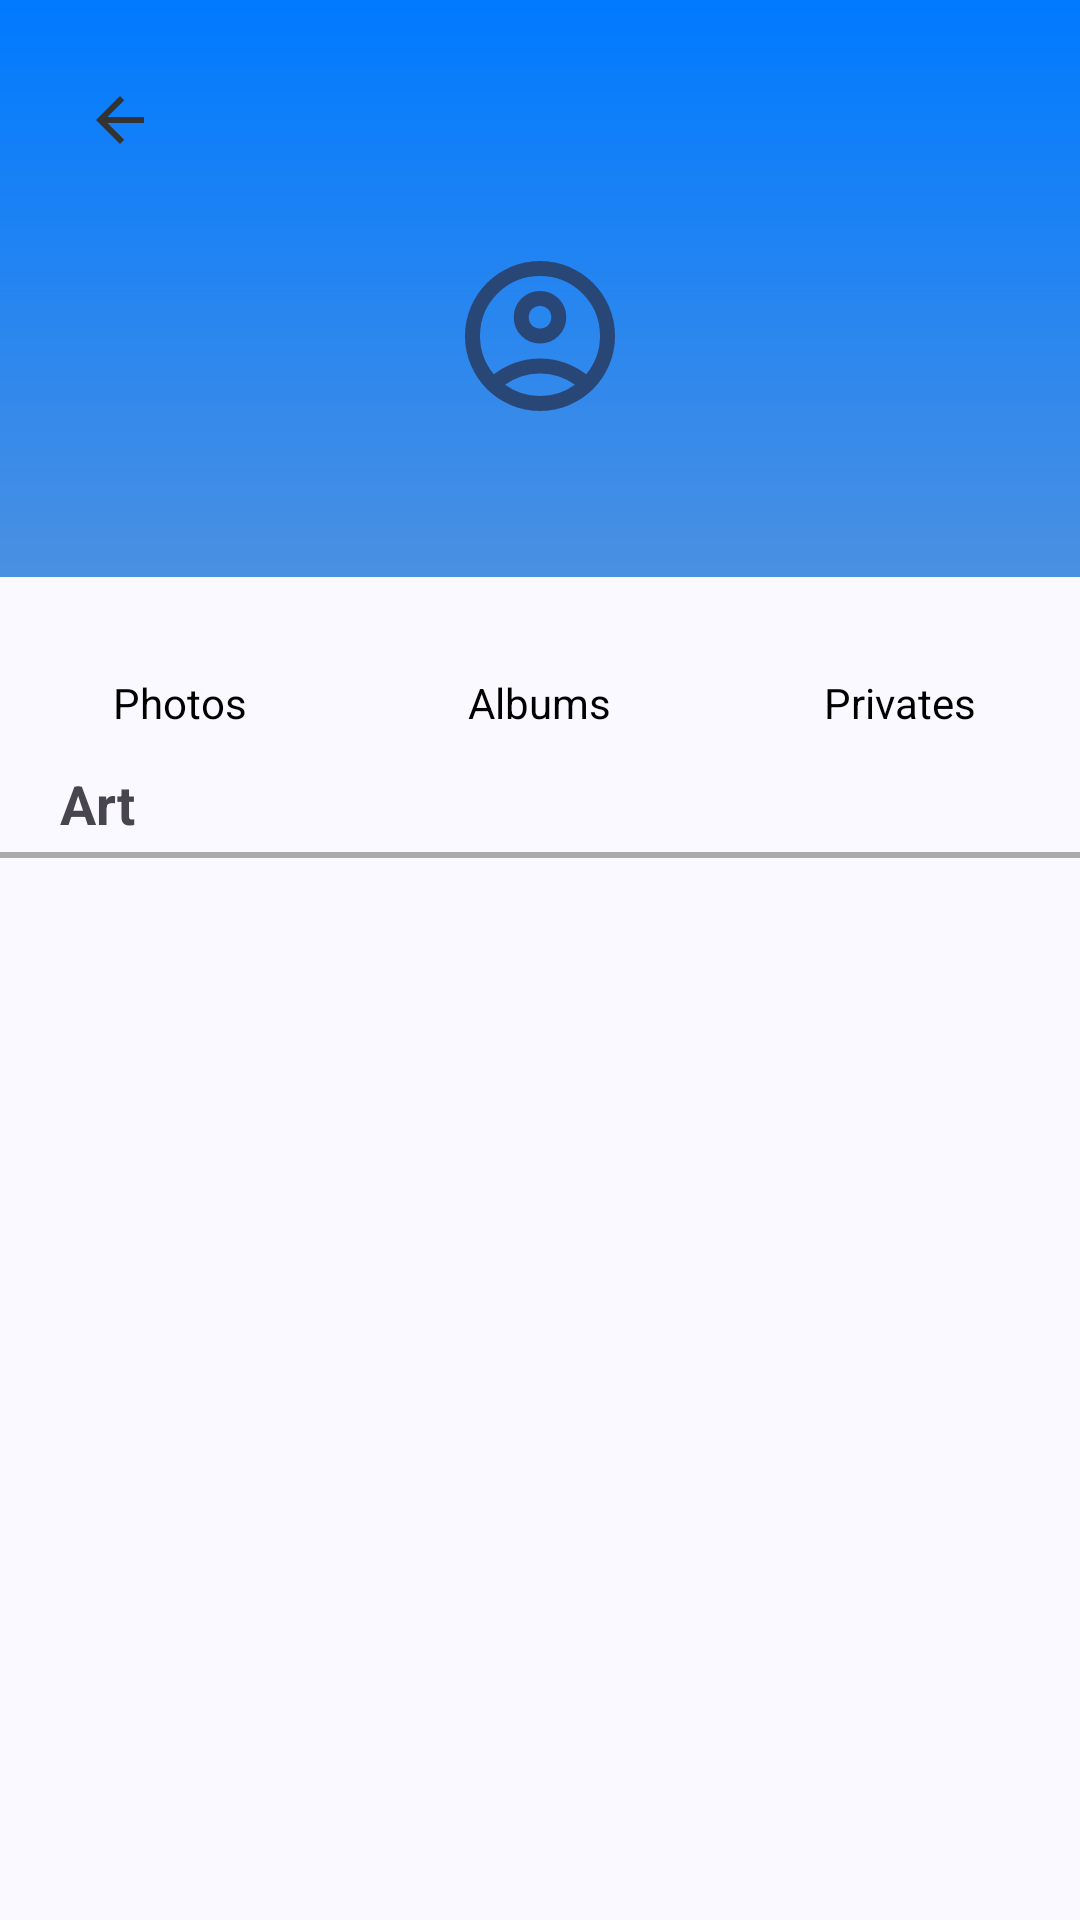

Point at icon controls on the screen. Image size 1080w x 1920h, points as (x,y).
profile: (540,358)
